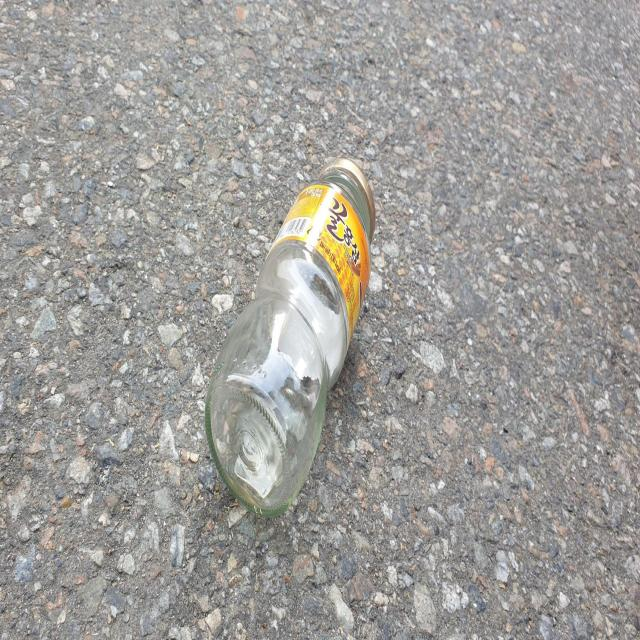glass: (205, 159, 375, 516)
